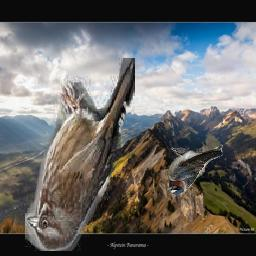Sparrow: (25, 59, 135, 252)
Swallow: (165, 145, 223, 196)
